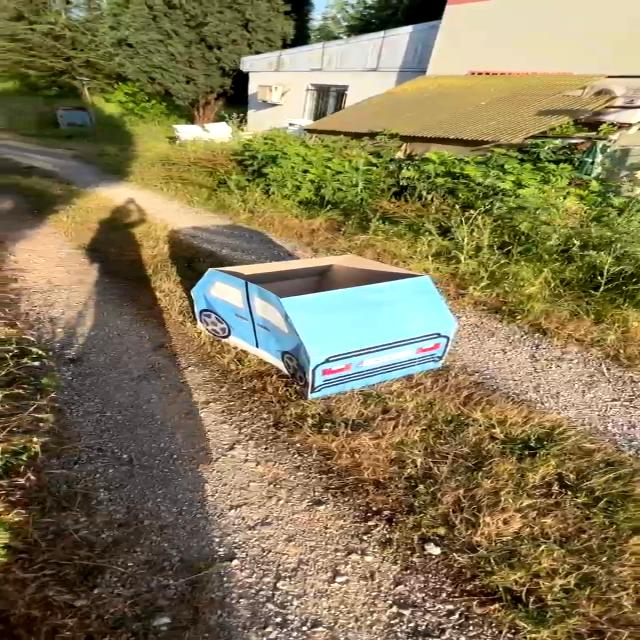blue_car: (153, 223, 486, 412)
